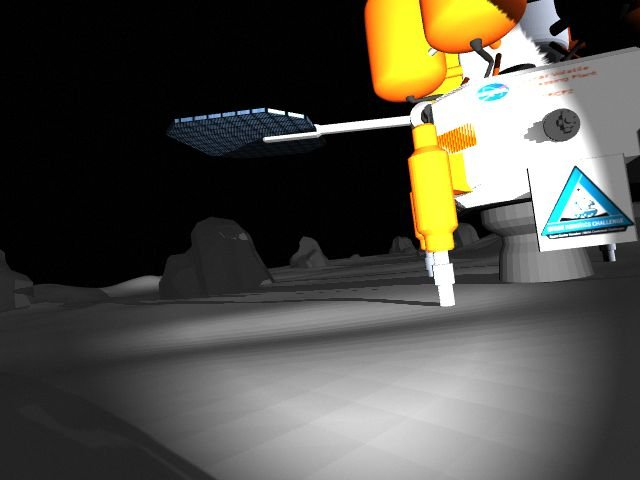basemarker: (542, 165, 635, 240)
